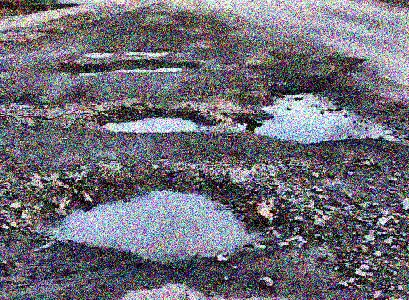pothole: (22, 162, 293, 266), (239, 86, 363, 144), (97, 105, 221, 133), (57, 59, 203, 77), (74, 47, 176, 56)
